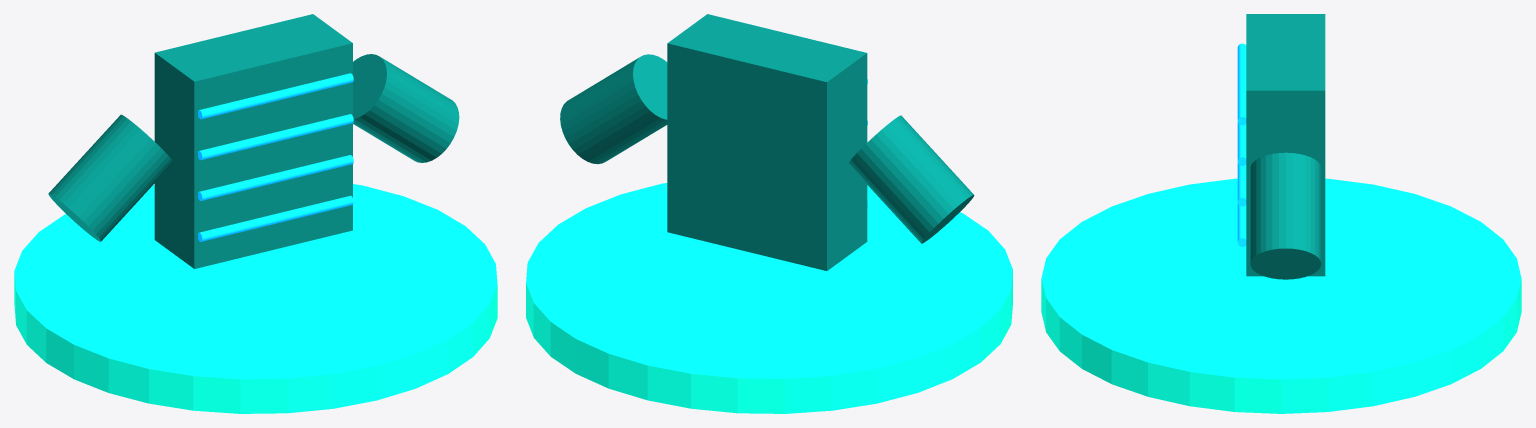
The model's file is fashion_puffer_jacket.dae.
The picture shows the model from 3 angles, left to right: view 1: azimuth 30°, elevation 25°; view 2: azimuth 150°, elevation 25°; view 3: azimuth 270°, elevation 25°; orthographic projection.
Parts seen in each view (by area): view 1: 06_09_Popular_Fashion_Puffer_Jacket_ROOT_base, 06_09_Popular_Fashion_Puffer_Jacket_part_01, 06_09_Popular_Fashion_Puffer_Jacket_part_02, 06_09_Popular_Fashion_Puffer_Jacket_part_03, 06_09_Popular_Fashion_Puffer_Jacket_part_06, 06_09_Popular_Fashion_Puffer_Jacket_part_07, 06_09_Popular_Fashion_Puffer_Jacket_part_05, 06_09_Popular_Fashion_Puffer_Jacket_part_04; view 2: 06_09_Popular_Fashion_Puffer_Jacket_ROOT_base, 06_09_Popular_Fashion_Puffer_Jacket_part_01, 06_09_Popular_Fashion_Puffer_Jacket_part_02, 06_09_Popular_Fashion_Puffer_Jacket_part_03; view 3: 06_09_Popular_Fashion_Puffer_Jacket_ROOT_base, 06_09_Popular_Fashion_Puffer_Jacket_part_01, 06_09_Popular_Fashion_Puffer_Jacket_part_03, 06_09_Popular_Fashion_Puffer_Jacket_part_07.
Part boxes in pixels (box(x1,y1,x2,y2)): 06_09_Popular_Fashion_Puffer_Jacket_ROOT_base: box(14, 184, 497, 413); 06_09_Popular_Fashion_Puffer_Jacket_part_01: box(154, 14, 352, 268); 06_09_Popular_Fashion_Puffer_Jacket_part_02: box(48, 114, 173, 241); 06_09_Popular_Fashion_Puffer_Jacket_part_03: box(353, 54, 459, 162); 06_09_Popular_Fashion_Puffer_Jacket_part_06: box(198, 114, 353, 160); 06_09_Popular_Fashion_Puffer_Jacket_part_07: box(198, 73, 353, 119); 06_09_Popular_Fashion_Puffer_Jacket_part_05: box(198, 155, 353, 200); 06_09_Popular_Fashion_Puffer_Jacket_part_04: box(198, 195, 353, 241); 06_09_Popular_Fashion_Puffer_Jacket_ROOT_base: box(526, 183, 1012, 413); 06_09_Popular_Fashion_Puffer_Jacket_part_01: box(667, 14, 867, 270); 06_09_Popular_Fashion_Puffer_Jacket_part_02: box(848, 115, 974, 243); 06_09_Popular_Fashion_Puffer_Jacket_part_03: box(560, 54, 667, 164); 06_09_Popular_Fashion_Puffer_Jacket_ROOT_base: box(1041, 178, 1521, 413); 06_09_Popular_Fashion_Puffer_Jacket_part_01: box(1246, 14, 1325, 276); 06_09_Popular_Fashion_Puffer_Jacket_part_03: box(1250, 152, 1321, 279); 06_09_Popular_Fashion_Puffer_Jacket_part_07: box(1237, 43, 1246, 125).
Size of the model in its own units: 0.76 by 0.4546 by 0.76.
